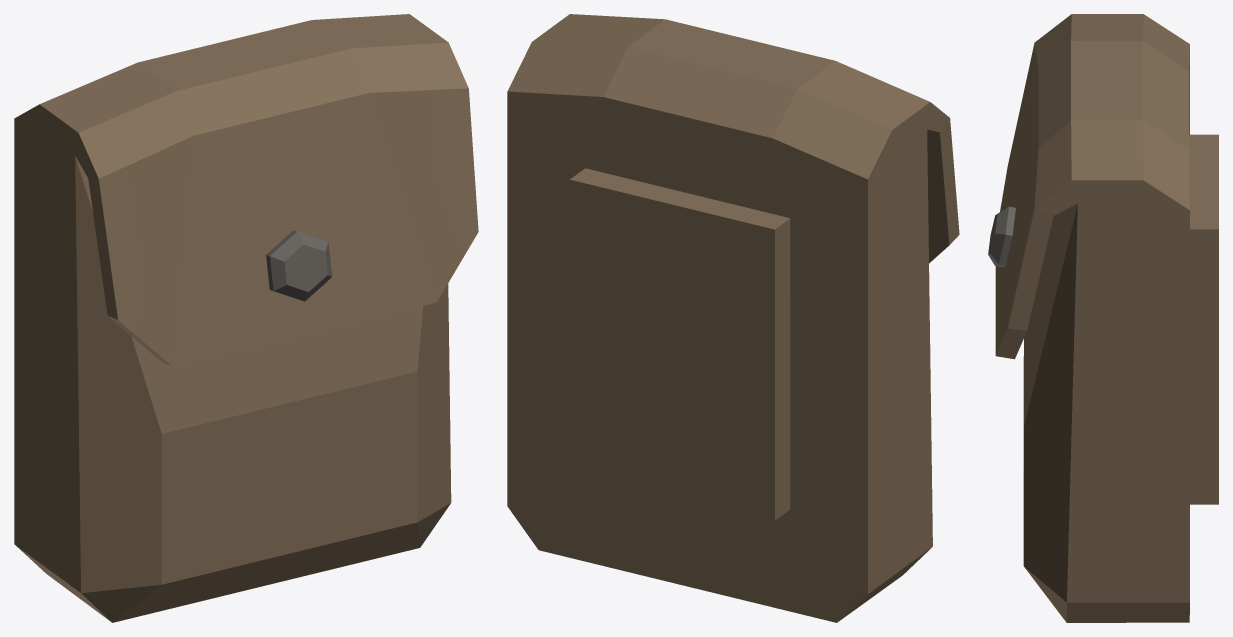
File: Pouch_03_SM.FBX
3 renders of one model, left to right at view 1: azimuth 30°, elevation 25°; view 2: azimuth 150°, elevation 25°; view 3: azimuth 270°, elevation 25°, orthographic. The views are drawn at different scales.
Parts seen in each view (by area): view 1: Pouch_03_SM; view 2: Pouch_03_SM; view 3: Pouch_03_SM.
Boxes of the visible parts, x1,y1,x2,y2 form: Pouch_03_SM: [14, 14, 478, 622]; Pouch_03_SM: [507, 14, 959, 622]; Pouch_03_SM: [988, 14, 1218, 622].
Size of what is drawn, in the model's own units: 9.82 by 5.76 by 13.03.
